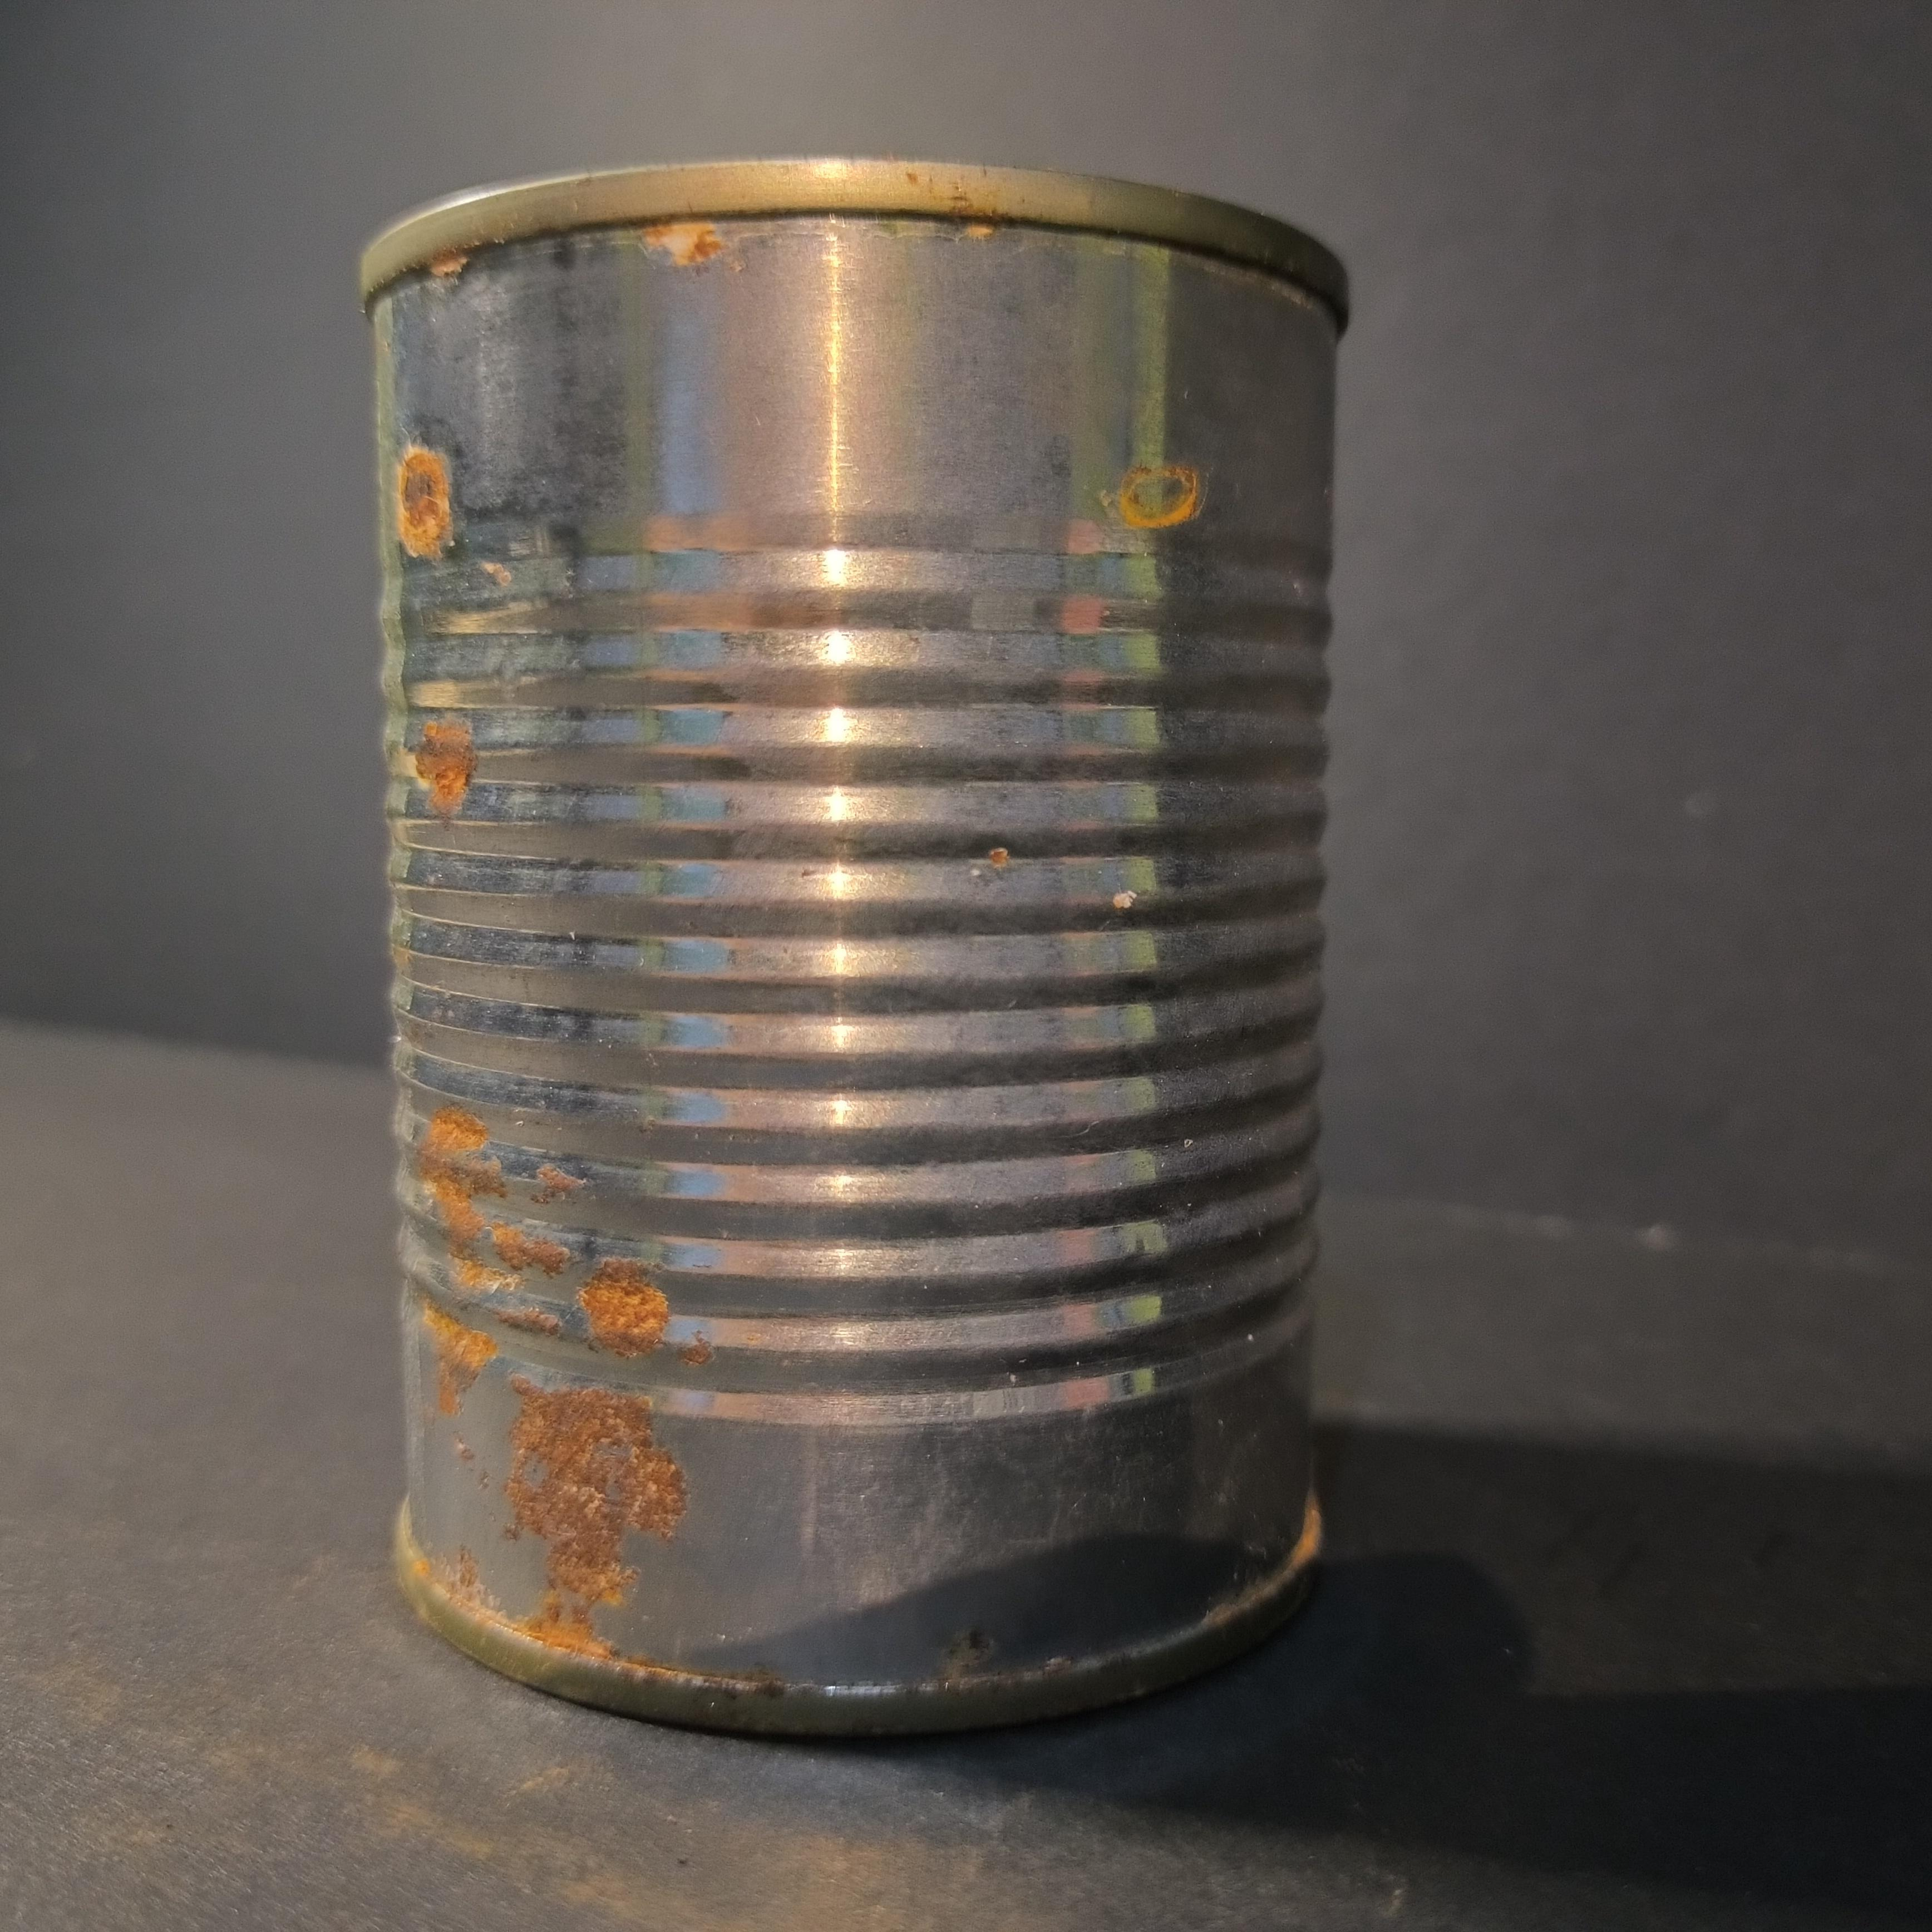Rusted: (336, 136, 1410, 1760)
